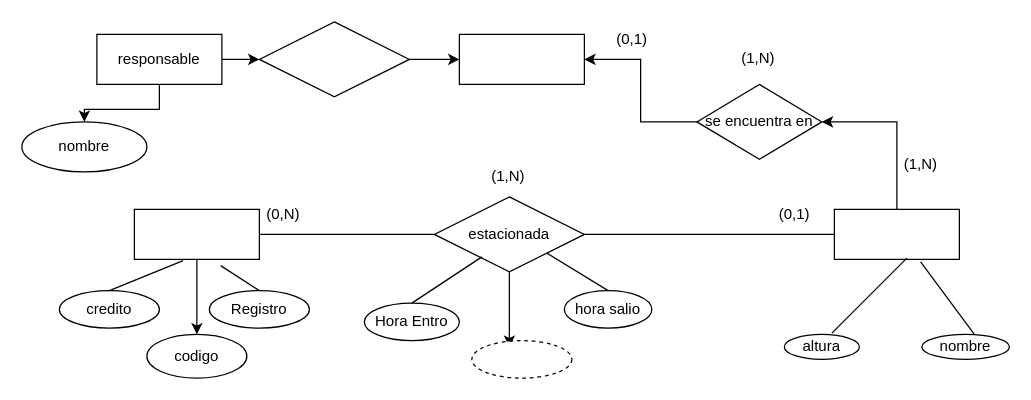
Some shapes in this 1031 by 400 pixel diagram are drawn without their labels. Each missing label, with the centre of its shape:
"atiende" belongs at pixel 333 59.
"calle" belongs at pixel 896 233.
"hora actual" belongs at pixel 521 358.
"patente" belongs at pixel 196 233.
"zona EMI" belongs at pixel 521 58.
